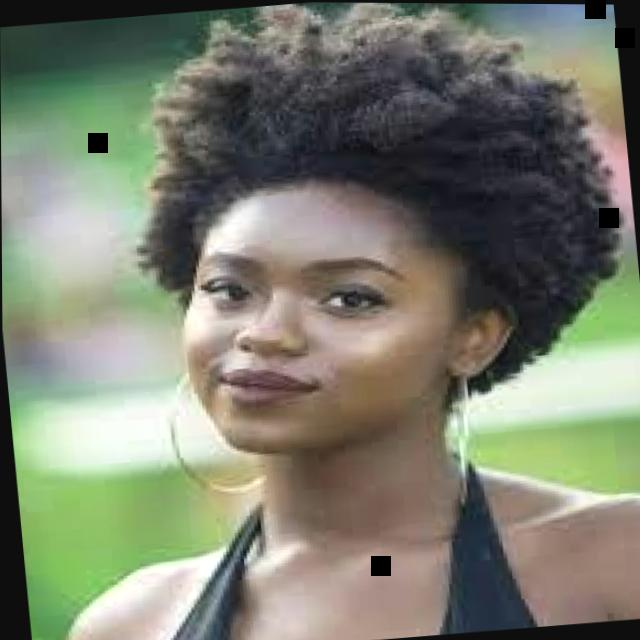NO-Mask: (169, 174, 485, 471)
